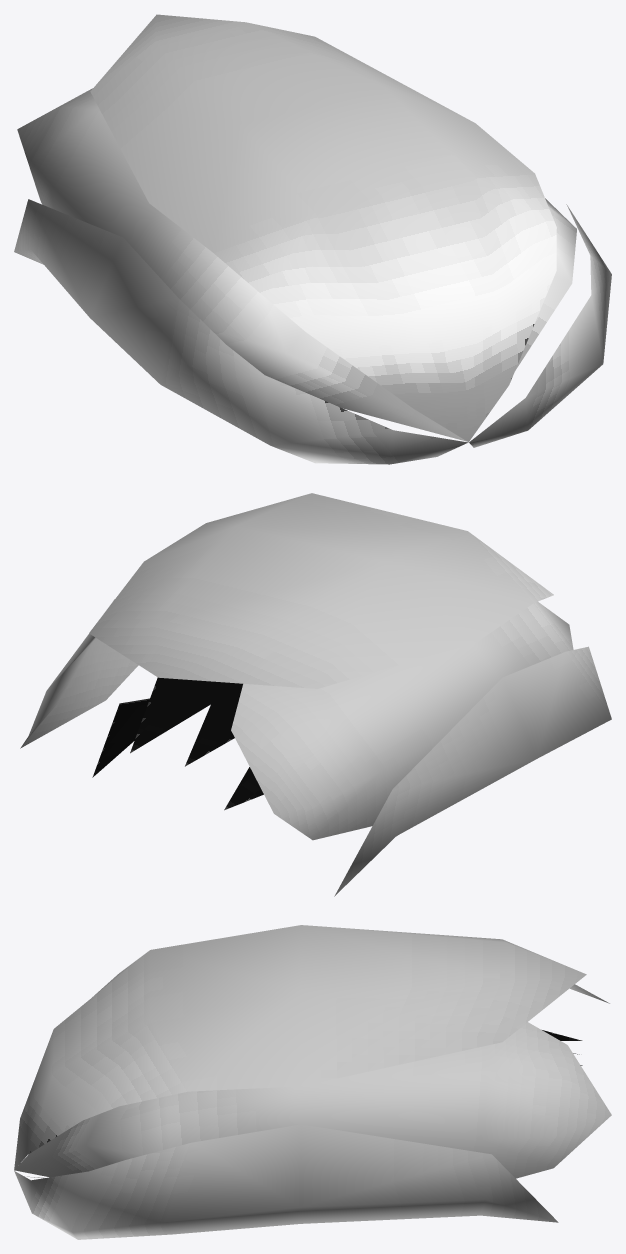
Rendered from CapPltOrnamentRTulip.glb.
3 views of the same model, one above another, from view 1: azimuth 30°, elevation 25°; view 2: azimuth 150°, elevation 25°; view 3: azimuth 270°, elevation 25° (orthographic). The views are drawn at different scales.
Visible parts, largest first — view 1: FLW_in_a__mTulipFlower; view 2: FLW_in_a__mTulipFlower; view 3: FLW_in_a__mTulipFlower.
Boxes of the visible parts, x1,y1,x2,y2 form: FLW_in_a__mTulipFlower: [14, 14, 611, 464]; FLW_in_a__mTulipFlower: [20, 493, 611, 896]; FLW_in_a__mTulipFlower: [14, 925, 611, 1239].
Size of the model in its own units: 1.9 by 0.981 by 2.32.
1 material, 1 textured.
